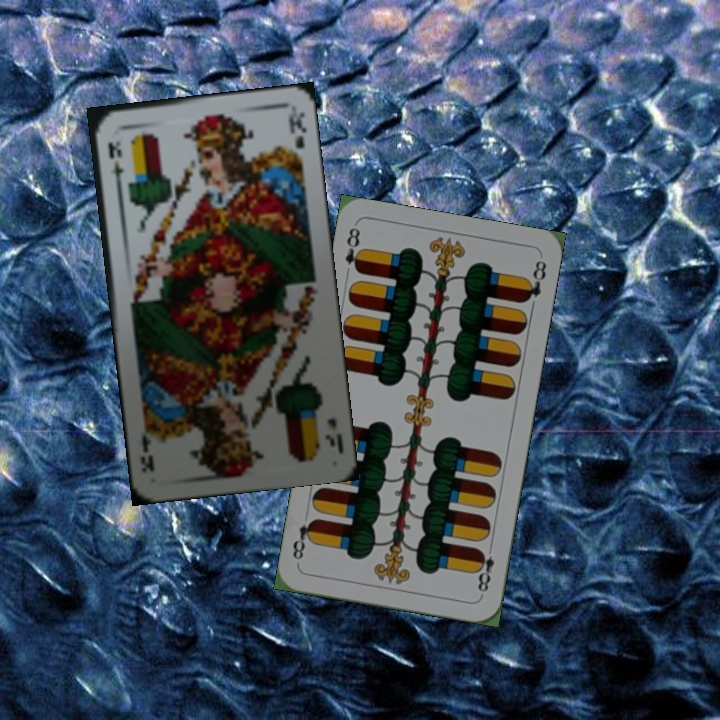E8: (341, 223, 366, 276), (472, 546, 497, 598)
EK: (104, 137, 126, 189), (321, 413, 345, 455)
